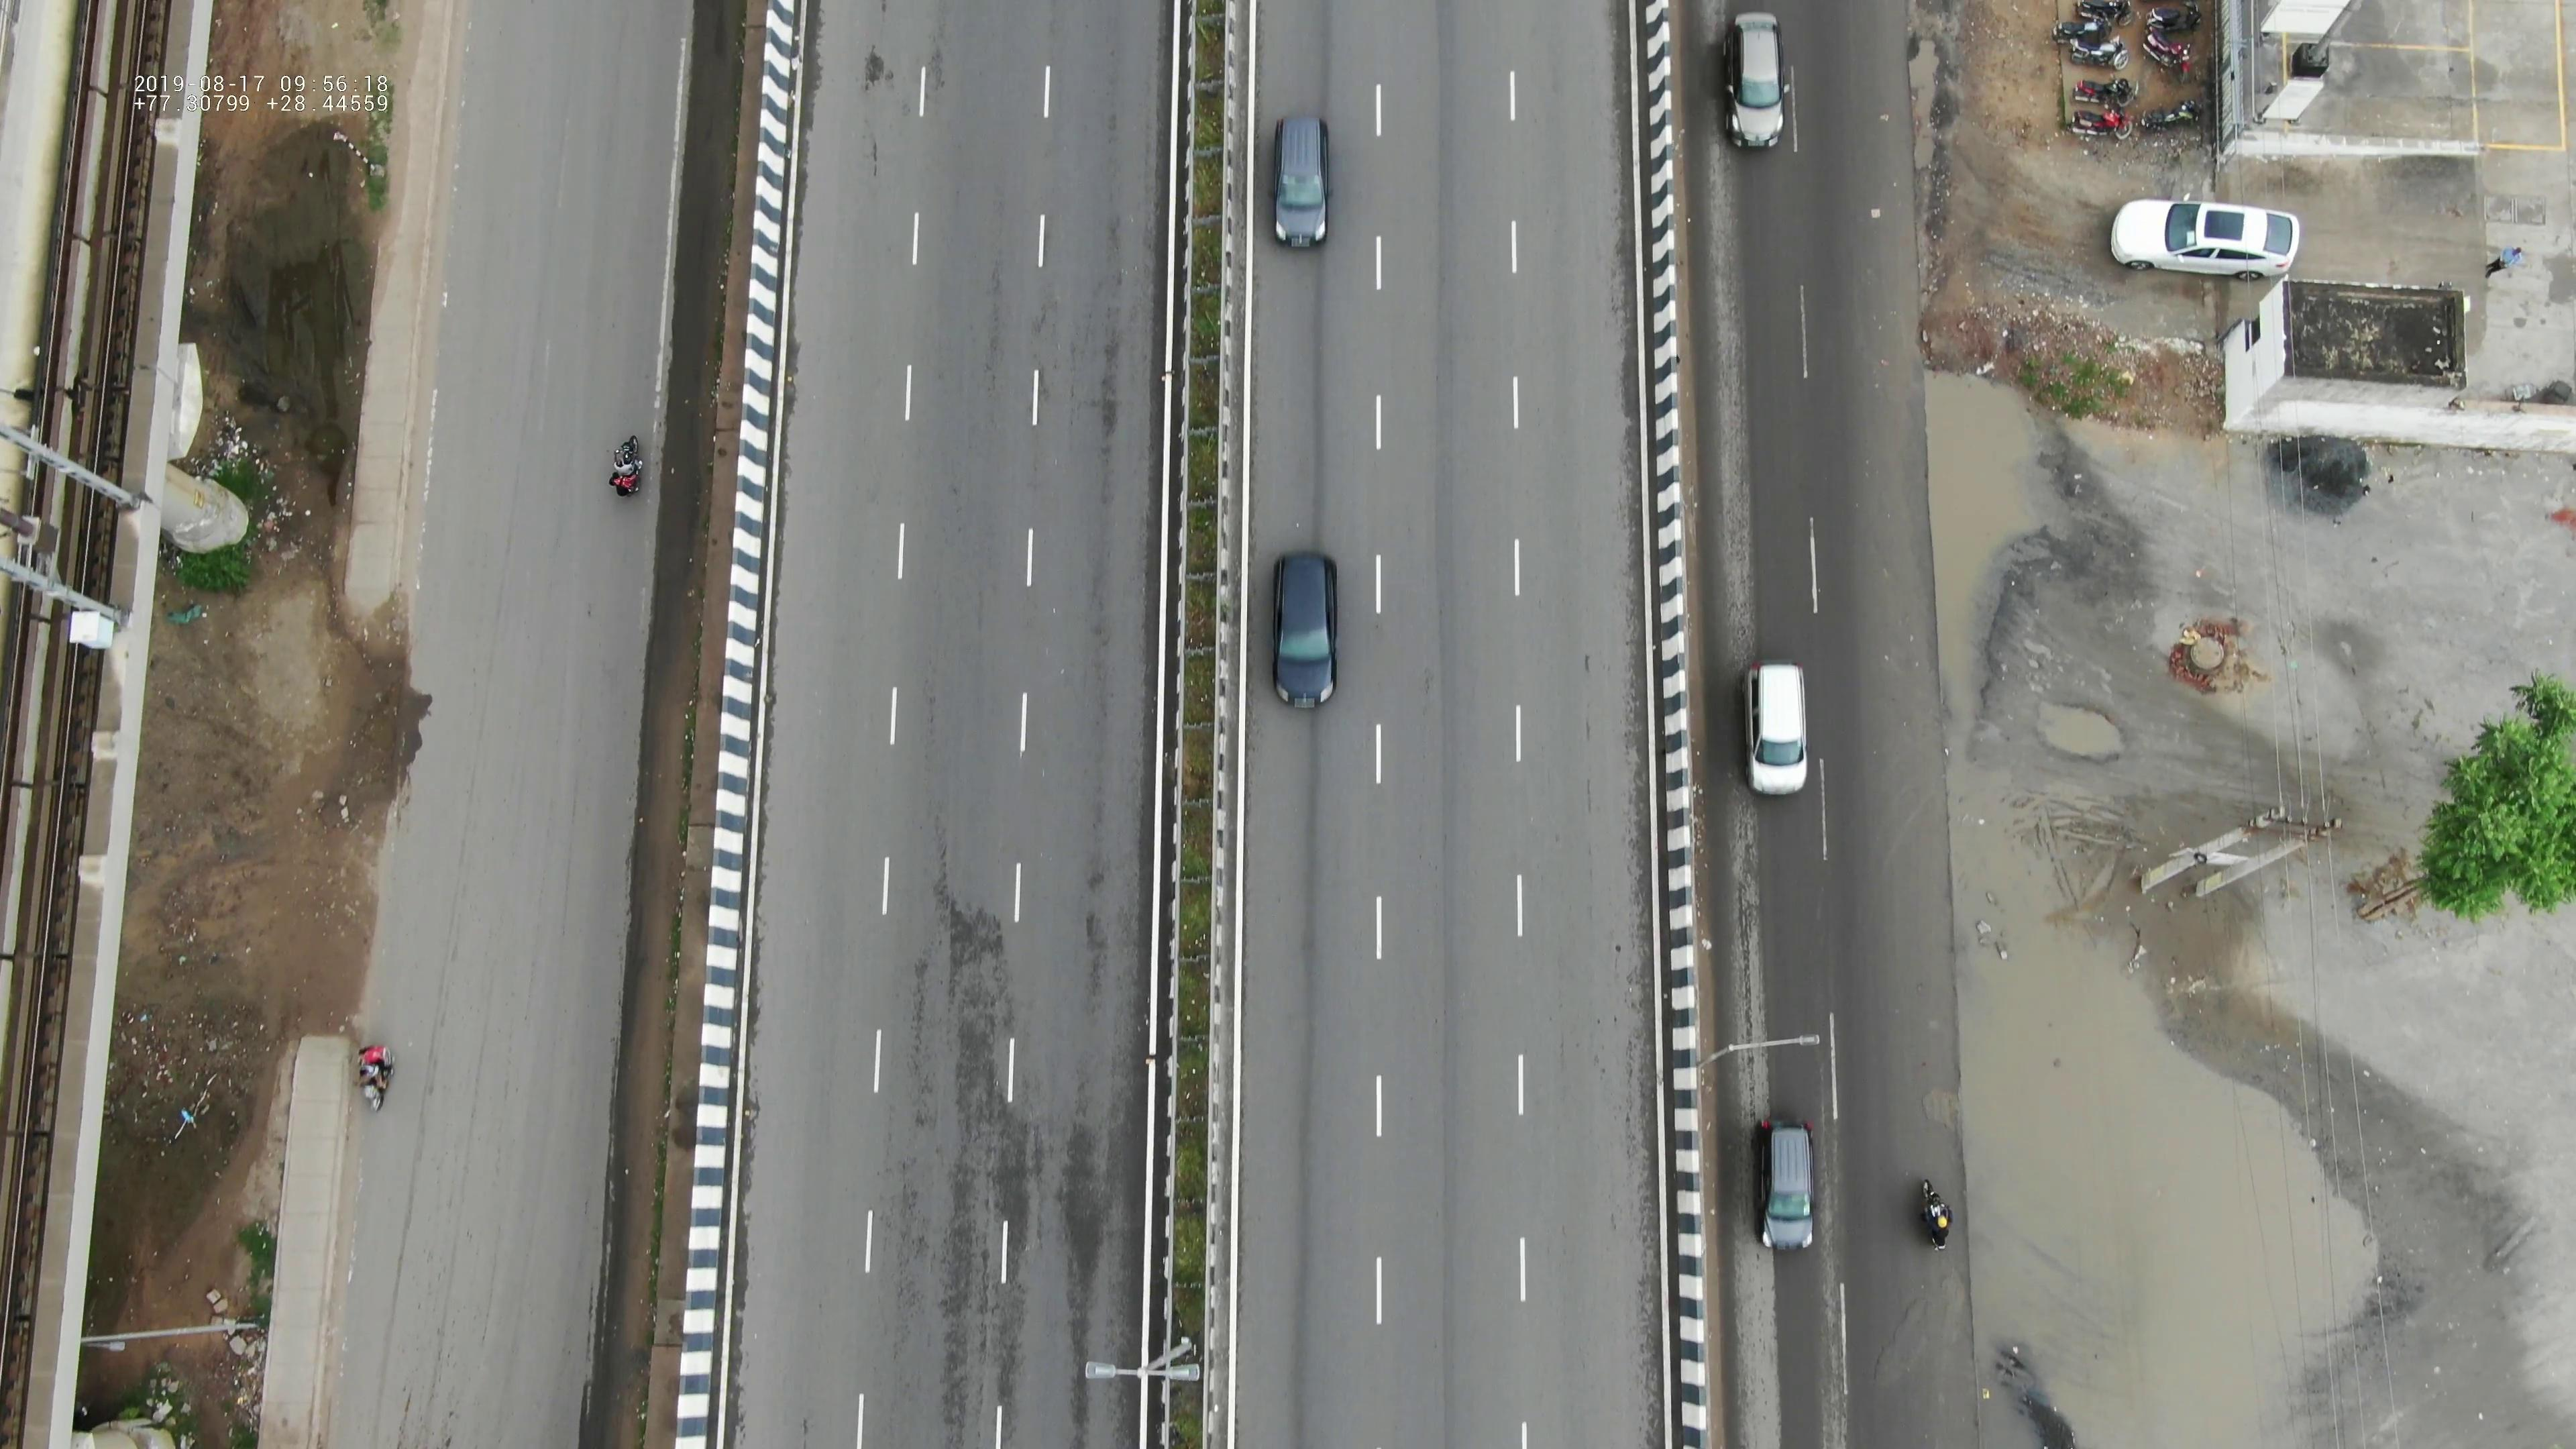Ravelling: (885, 849, 1134, 1361)
